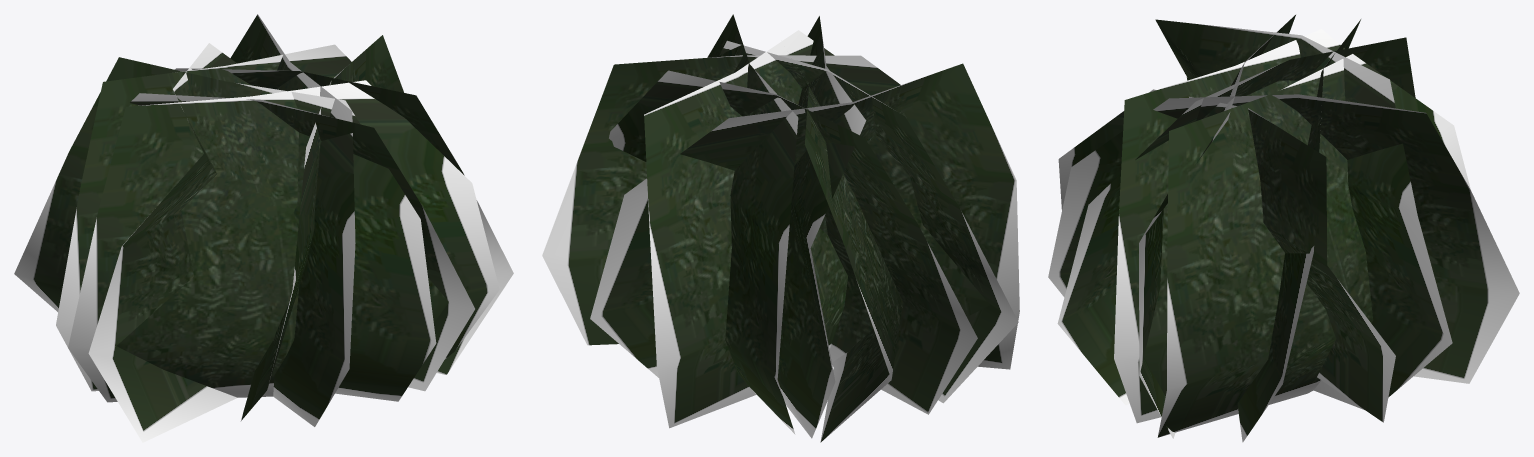
Rendered from struik.obj.
3 renders of one model, left to right at view 1: azimuth 30°, elevation 25°; view 2: azimuth 150°, elevation 25°; view 3: azimuth 270°, elevation 25°, orthographic. The views are drawn at different scales.
Visible parts, largest first — view 1: str8_1; view 2: str8_1; view 3: str8_1.
Boxes of the visible parts, bbox=[...] form: str8_1: bbox=[14, 14, 513, 442]; str8_1: bbox=[542, 14, 1019, 442]; str8_1: bbox=[1048, 15, 1519, 442].
Size of the model in its own units: 185 by 124 by 176.
1 material, 1 textured.
